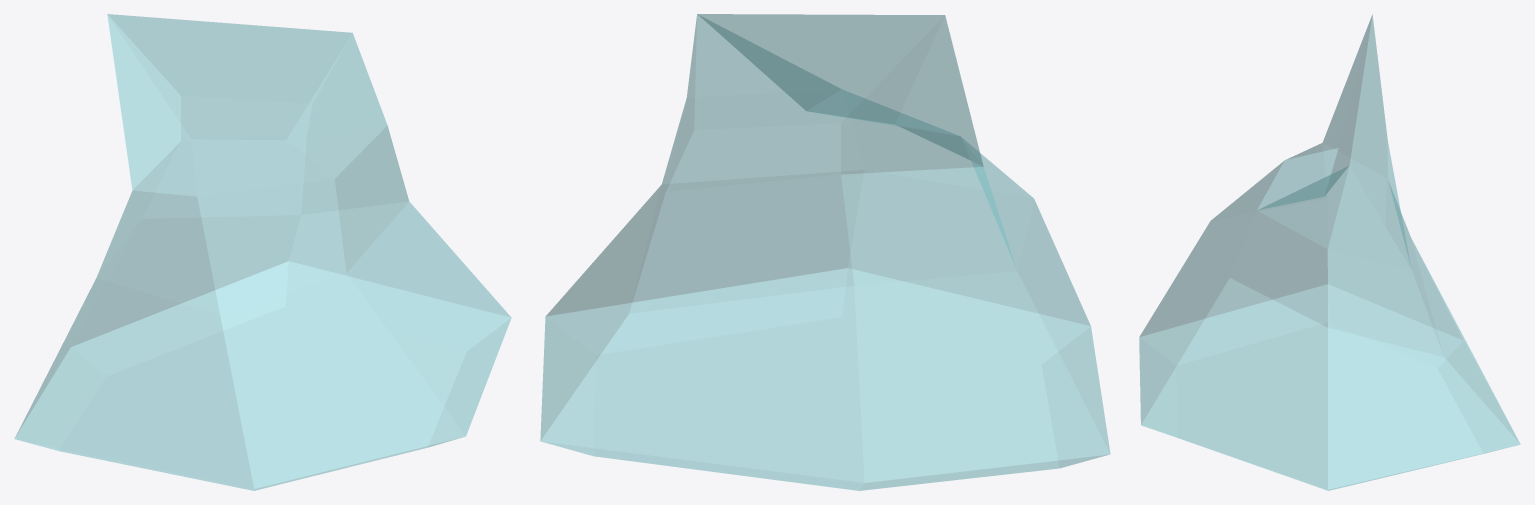
File: glacon_rayons.fbx
3 views of the same model, side by side, from view 1: azimuth 30°, elevation 25°; view 2: azimuth 150°, elevation 25°; view 3: azimuth 270°, elevation 25° (orthographic). The views are drawn at different scales.
Visible parts, largest first — view 1: Glacon; view 2: Glacon; view 3: Glacon.
Part boxes in pixels (x1=…): Glacon: x1=14, y1=14, x2=511, y2=490; Glacon: x1=540, y1=14, x2=1110, y2=490; Glacon: x1=1139, y1=14, x2=1520, y2=490.
Size of the model in its own units: 192 by 148 by 151.
